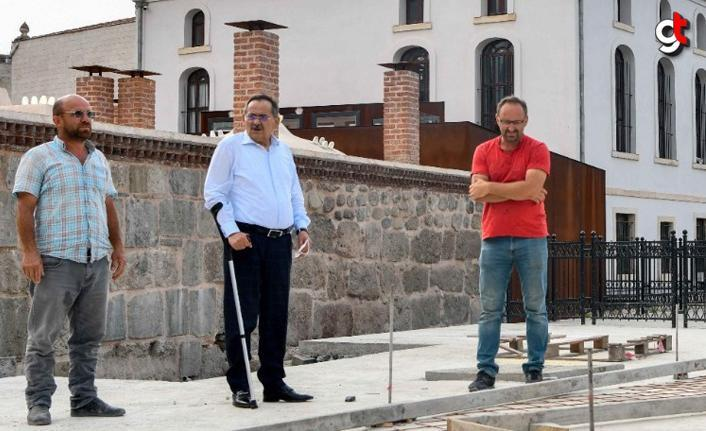crutches: (199, 89, 320, 413)
